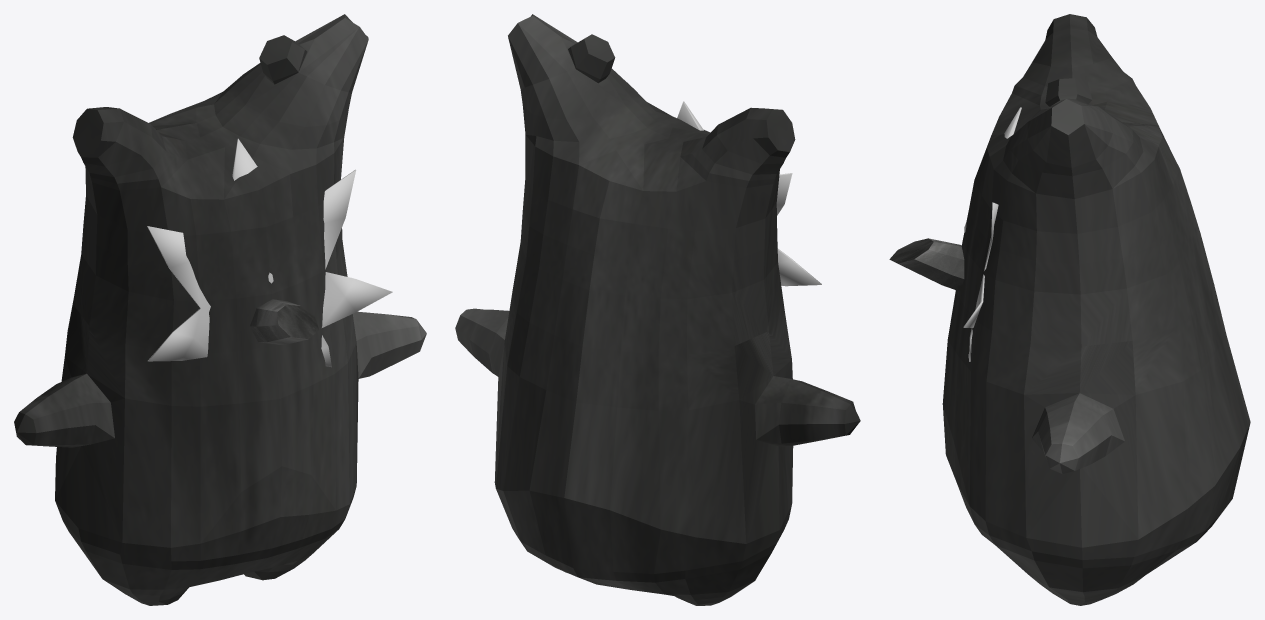
The model's file is frame_0018.obj.
The picture shows the model from 3 angles, left to right: view 1: azimuth 30°, elevation 25°; view 2: azimuth 150°, elevation 25°; view 3: azimuth 270°, elevation 25°; orthographic projection.
Visible parts, largest first — view 1: korok, leaf.003_柱体.013, nose.003_柱体.011; view 2: korok, leaf.003_柱体.013; view 3: korok, nose.003_柱体.011, leaf.003_柱体.013.
Boxes of the visible parts, <box> form: korok: <box>14,14,426,605</box>; leaf.003_柱体.013: <box>147,138,392,367</box>; nose.003_柱体.011: <box>250,299,318,344</box>; korok: <box>455,14,860,605</box>; leaf.003_柱体.013: <box>677,101,821,286</box>; korok: <box>942,14,1250,605</box>; nose.003_柱体.011: <box>889,238,964,291</box>; leaf.003_柱体.013: <box>963,107,1021,361</box>.
Bounding box in the file's own units: 1.76 × 2.25 × 1.37.
